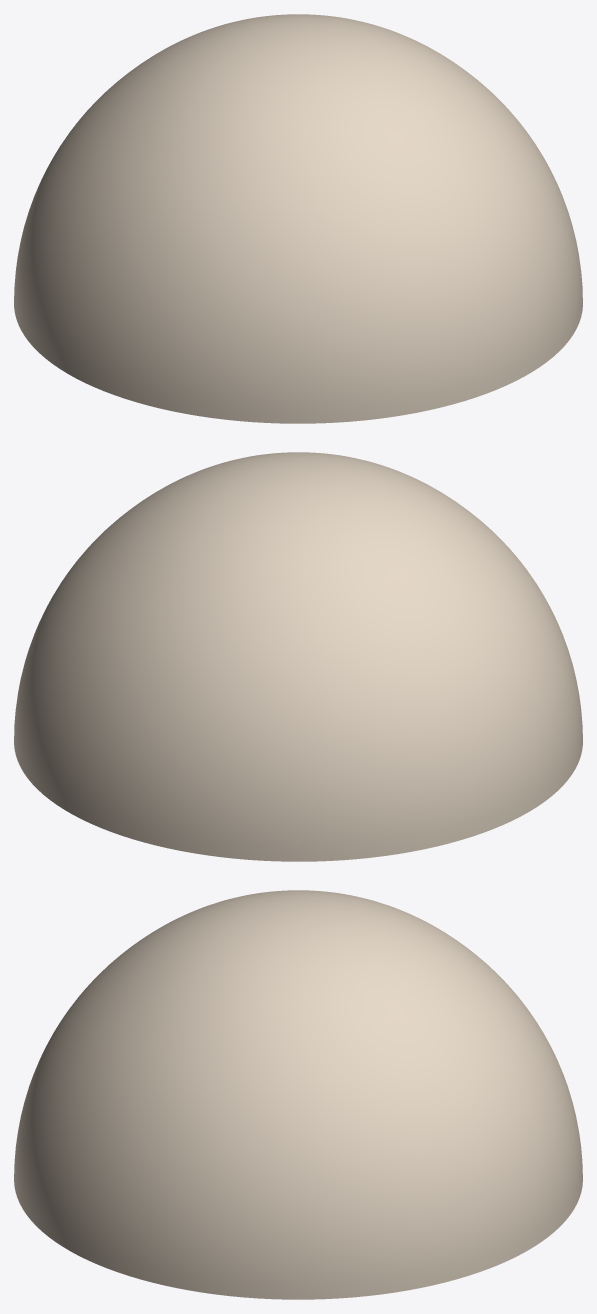
Rendered from head.glb.
The picture shows the model from 3 angles, top to bottom: view 1: azimuth 30°, elevation 25°; view 2: azimuth 150°, elevation 25°; view 3: azimuth 270°, elevation 25°; orthographic projection.
Parts seen in each view (by area): view 1: head; view 2: head; view 3: head.
Part boxes in pixels (x1,y1,x2,y2): head: [14, 14, 582, 423]; head: [14, 452, 582, 861]; head: [14, 890, 582, 1299].
Size of the model in its own units: 0.3497 by 0.1785 by 0.3497.
